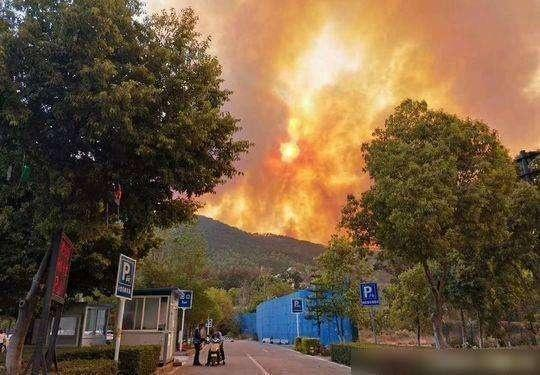fire: (208, 127, 358, 253)
